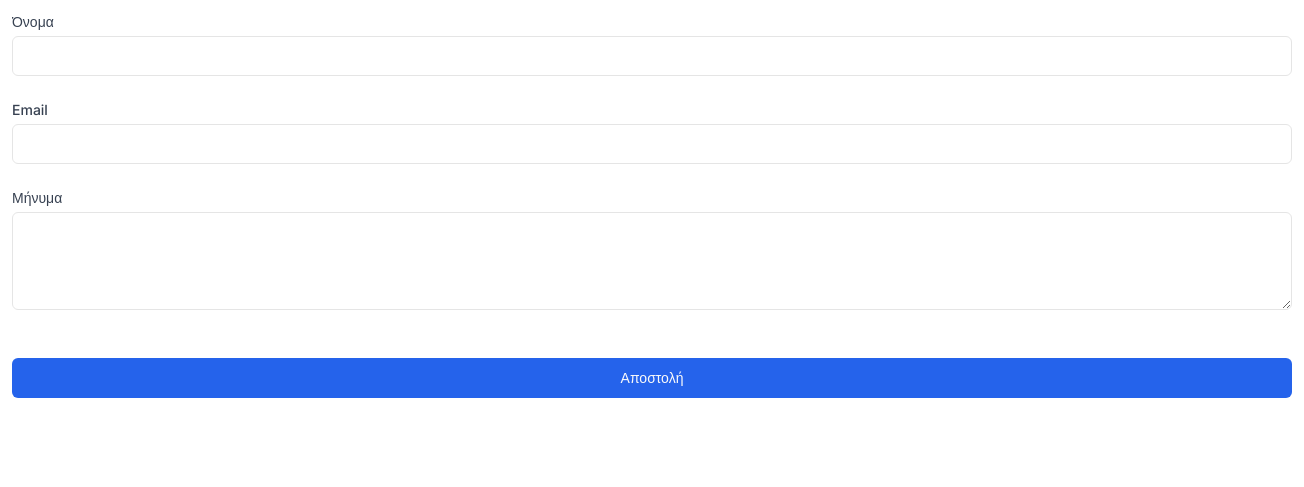
Test: ContactForm › requires all fields
Click the button "Αποστολή".
click(652, 378)  # box left=12, top=358, right=1292, bottom=398
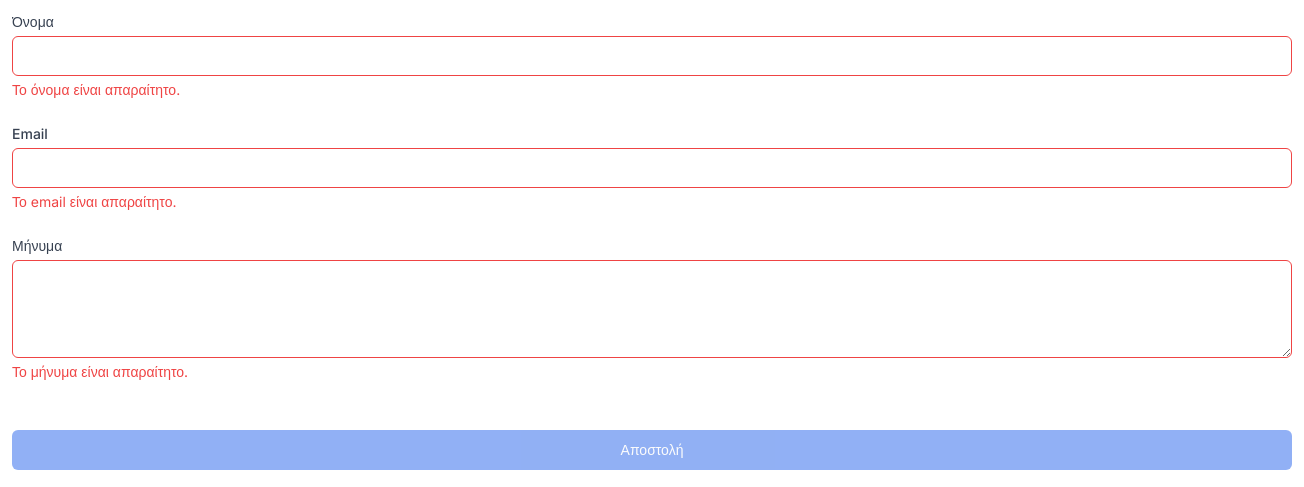
Result: the text "Το όνομα είναι απαραίτητο." is shown at left=12, top=81, right=180, bottom=98
Result: the text "Το email είναι απαραίτητο." is shown at left=12, top=193, right=176, bottom=210
Result: the text "Το μήνυμα είναι απαραίτητο." is shown at left=12, top=363, right=188, bottom=380
